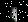person: (8, 8, 17, 22)
